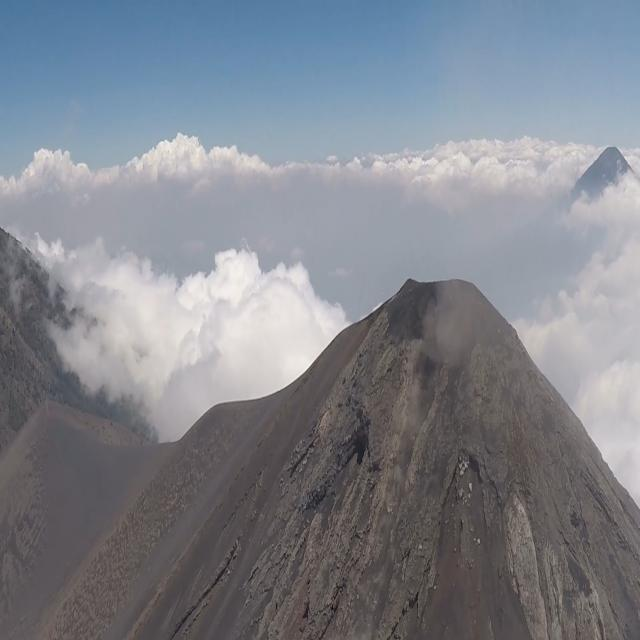Summit: (168, 238, 635, 640)
